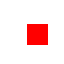square: (27, 24, 47, 44)
